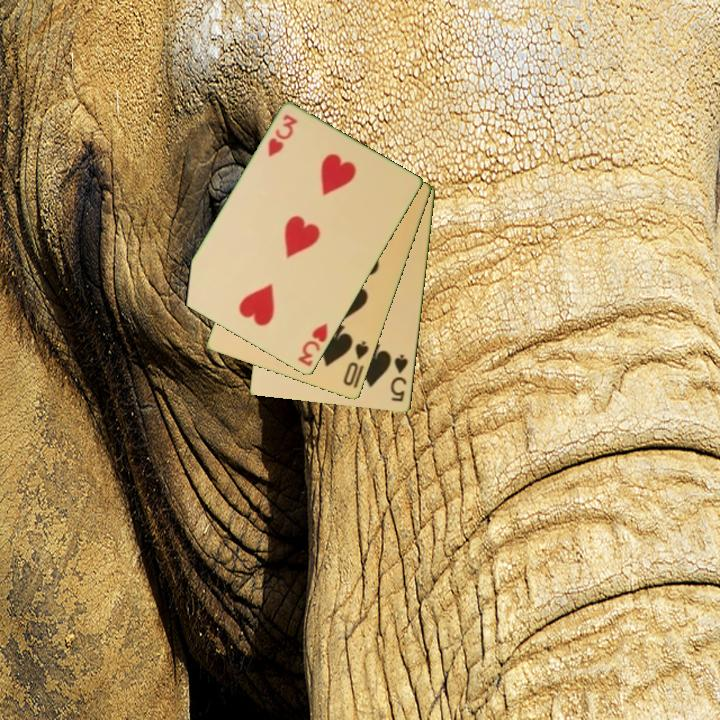10s: (340, 338, 372, 389)
3h: (294, 320, 331, 370), (264, 111, 301, 160)
5s: (387, 351, 411, 405)
